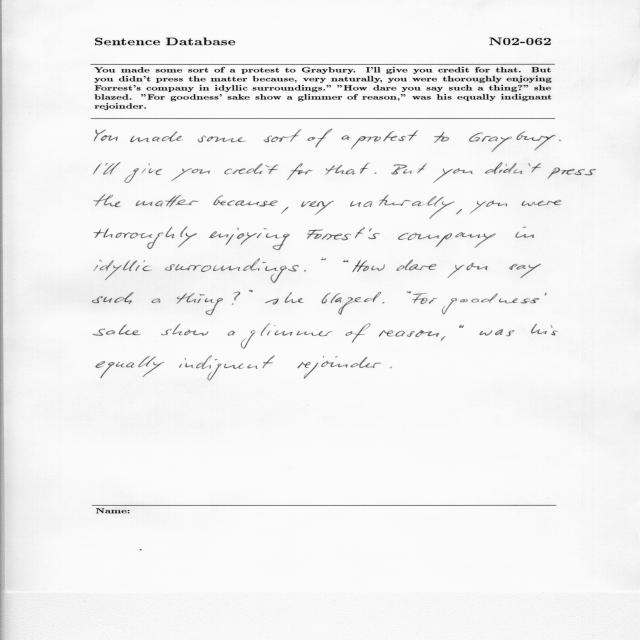word: (165, 258, 299, 283), (350, 195, 454, 219), (179, 356, 275, 381), (442, 293, 547, 315), (241, 324, 332, 349), (94, 227, 197, 249), (298, 356, 382, 379), (209, 228, 290, 251), (469, 132, 555, 152), (398, 232, 496, 248), (96, 356, 164, 378), (322, 292, 382, 315), (351, 130, 418, 150), (94, 260, 152, 281), (177, 294, 223, 316), (307, 227, 380, 240), (213, 195, 278, 207), (135, 195, 199, 207), (124, 163, 162, 183), (485, 162, 541, 174), (434, 168, 474, 183), (448, 263, 488, 278), (224, 164, 278, 175), (325, 162, 370, 175), (130, 132, 183, 143), (93, 324, 141, 336), (161, 324, 208, 336), (548, 168, 596, 179), (171, 168, 210, 181), (265, 292, 304, 305), (92, 292, 134, 304), (264, 129, 301, 142), (470, 201, 507, 214), (397, 259, 437, 271), (346, 324, 371, 343), (301, 201, 334, 215), (308, 129, 333, 147), (287, 163, 313, 180), (510, 264, 541, 278), (391, 163, 427, 175), (379, 330, 439, 337), (352, 260, 385, 272), (198, 136, 246, 143), (94, 195, 121, 207), (531, 324, 558, 335), (94, 130, 118, 142), (412, 293, 437, 304), (480, 329, 515, 336), (522, 200, 562, 206), (103, 162, 121, 175), (515, 227, 534, 238), (434, 132, 449, 143), (232, 292, 240, 305), (93, 163, 102, 174), (281, 207, 289, 214), (151, 298, 161, 303), (341, 135, 350, 140), (228, 331, 235, 336), (456, 209, 462, 214), (441, 336, 445, 341), (459, 324, 464, 328), (343, 260, 349, 262), (407, 291, 411, 294), (321, 258, 326, 260), (249, 290, 253, 292), (375, 172, 377, 174), (304, 270, 306, 272), (389, 367, 392, 368), (559, 140, 561, 141), (383, 302, 385, 303)
